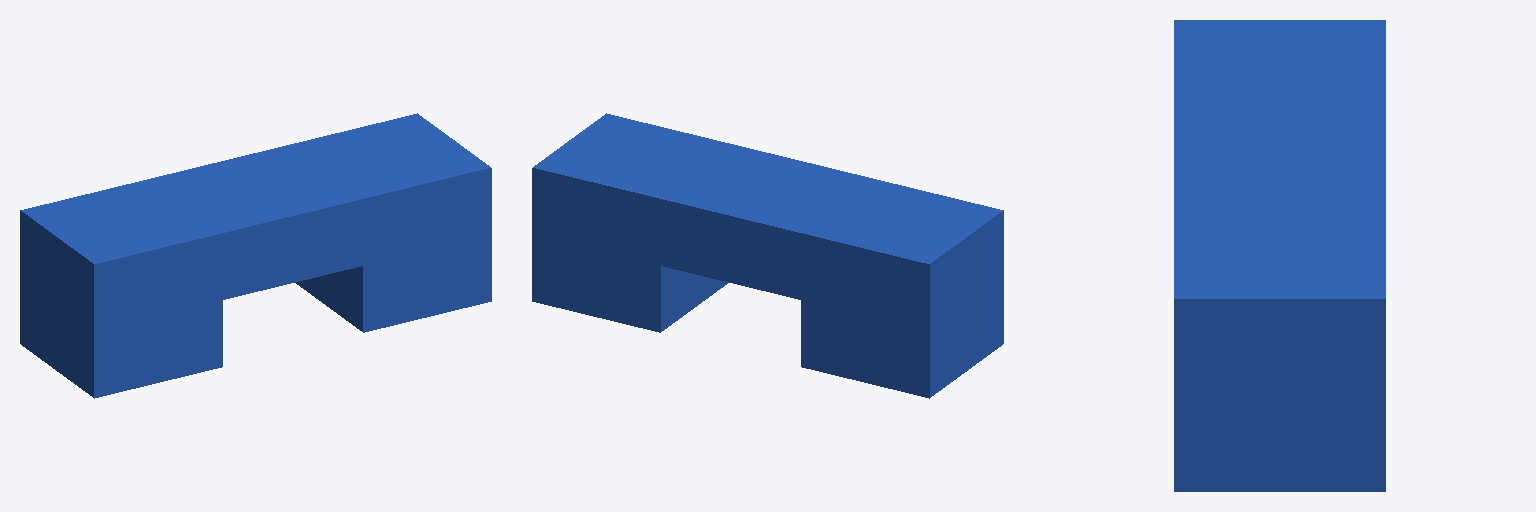
URDF robot description (obj_12):
<robot name="obj_12" version="1.0">
  <link name="obj_12">
    <collision name="short-piece-2-collision.001">
      <origin rpy="0.00000 0.00000 0.00000" xyz="0.00000 0.00000 0.00000"/>
      <geometry>
        <mesh filename="../meshes/obj/short-piece-2-collision.001.obj" scale="1.00000 1.00000 1.00000"/>
      </geometry>
    </collision>
    <collision name="short-piece-2-collision.002">
      <origin rpy="0.00000 0.00000 0.00000" xyz="0.00000 0.00000 0.00000"/>
      <geometry>
        <mesh filename="../meshes/obj/short-piece-2-collision.002.obj" scale="1.00000 1.00000 1.00000"/>
      </geometry>
    </collision>
    <collision name="short-piece-2-collision.003">
      <origin rpy="0.00000 0.00000 0.00000" xyz="0.00000 0.00000 0.00000"/>
      <geometry>
        <mesh filename="../meshes/obj/short-piece-2-collision.003.obj" scale="1.00000 1.00000 1.00000"/>
      </geometry>
    </collision>
    <inertial>
      <inertia ixx="0.00000" ixy="0.00000" ixz="-0.00000" iyy="0.00001" iyz="0.00000" izz="0.00001"/>
      <origin rpy="0.00000 0.00000 0.00000" xyz="-0.20554 0.08398 0.18330"/>
      <mass value="0.00300"/>
    </inertial>
    <visual name="short-piece-2">
      <material name="turnarrow"/>
      <origin rpy="-3.14159 0.00000 0.00000" xyz="-0.20554 0.08398 0.17435"/>
      <geometry>
        <mesh filename="../meshes/obj/short-piece.002.obj" scale="0.00500 0.00500 0.00500"/>
      </geometry>
    </visual>
  </link>
  <material name="turnarrow">
    <color rgba="0.23137 0.44706 0.80000 1.00000"/>
  </material>
</robot>

--- What the picture shows (computed from the rendered views, not written in the file) ---
The picture shows the robot from 3 angles, left to right: view 1: azimuth 30°, elevation 25°; view 2: azimuth 150°, elevation 25°; view 3: azimuth 270°, elevation 25°; orthographic projection.
Model obj_12 with 1 links and 0 joints (none), rooted at obj_12, posed every joint at zero.
Visible links, largest first — view 1: obj_12; view 2: obj_12; view 3: obj_12.
Boxes of the visible links, x1,y1,x2,y2 form: obj_12: (20, 113, 491, 398); obj_12: (532, 113, 1003, 398); obj_12: (1174, 20, 1385, 491).
Size in the robot's own frame: 0.155 by 0.05 by 0.05 metres.
1 mesh visuals loaded from 1 distinct referenced files (1 OBJ).